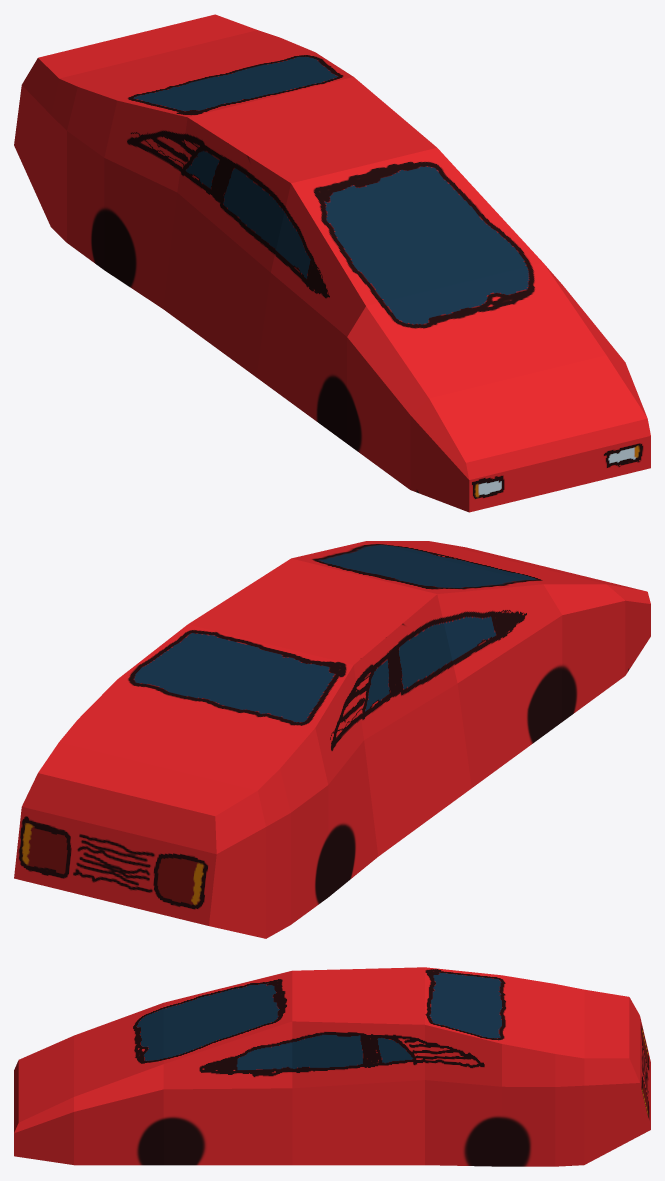
File: car.glb
3 renders of one model, top to bottom at view 1: azimuth 30°, elevation 25°; view 2: azimuth 150°, elevation 25°; view 3: azimuth 270°, elevation 25°, orthographic. The views are drawn at different scales.
Visible parts, largest first — view 1: Cube.001; view 2: Cube.001; view 3: Cube.001.
Boxes of the visible parts, x1,y1,x2,y2 form: Cube.001: (14, 14, 650, 512); Cube.001: (14, 541, 650, 938); Cube.001: (14, 967, 650, 1166).
Bounding box in the file's own units: 0.52 × 0.4123 × 1.81.
1 material, 1 textured.
